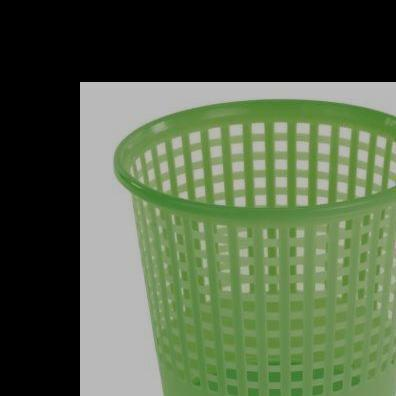Bote de Basura: (121, 102, 396, 396)
